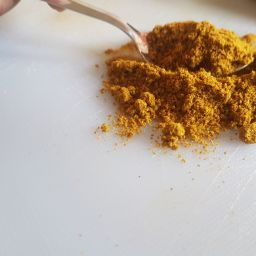Curry powder: (81, 12, 256, 158), (109, 3, 256, 154), (102, 41, 256, 161), (134, 17, 255, 80)
